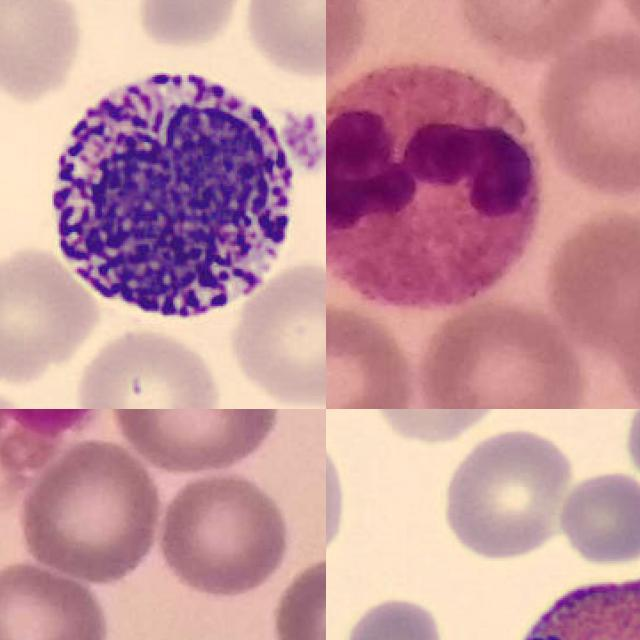Basophil: (54, 43, 301, 330)
Neutrophil: (326, 60, 541, 311)
Platelets: (274, 105, 326, 173)
RBC: (437, 425, 575, 563), (226, 256, 326, 409), (0, 242, 103, 383), (68, 329, 228, 409), (0, 0, 85, 104), (556, 467, 640, 568), (240, 0, 326, 80), (134, 0, 246, 52), (365, 409, 516, 446), (335, 592, 449, 640)
